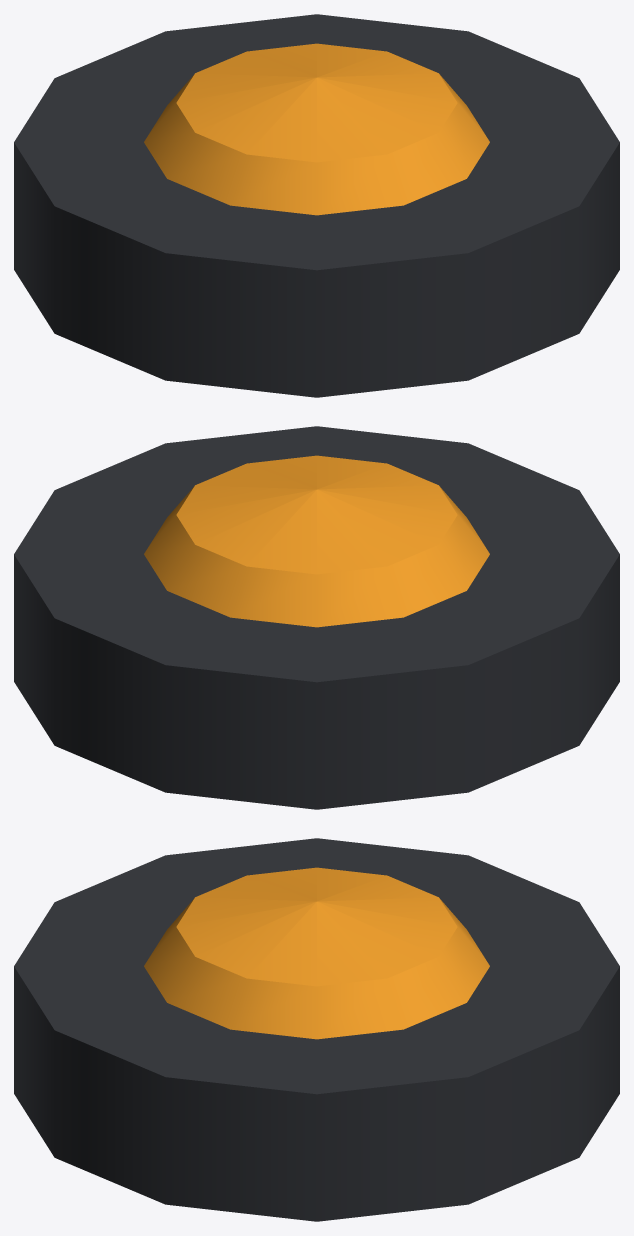
Rendered from ec2_beacon.obj.
The picture shows the model from 3 angles, top to bottom: view 1: azimuth 30°, elevation 25°; view 2: azimuth 150°, elevation 25°; view 3: azimuth 270°, elevation 25°; orthographic projection.
Visible parts, largest first — view 1: ec2_beacon; view 2: ec2_beacon; view 3: ec2_beacon.
Part boxes in pixels (x1,y1,x2,y2): ec2_beacon: [14, 14, 619, 397]; ec2_beacon: [14, 426, 619, 809]; ec2_beacon: [14, 838, 619, 1221].
Size of the model in its own units: 0.28 by 0.098 by 0.28.
